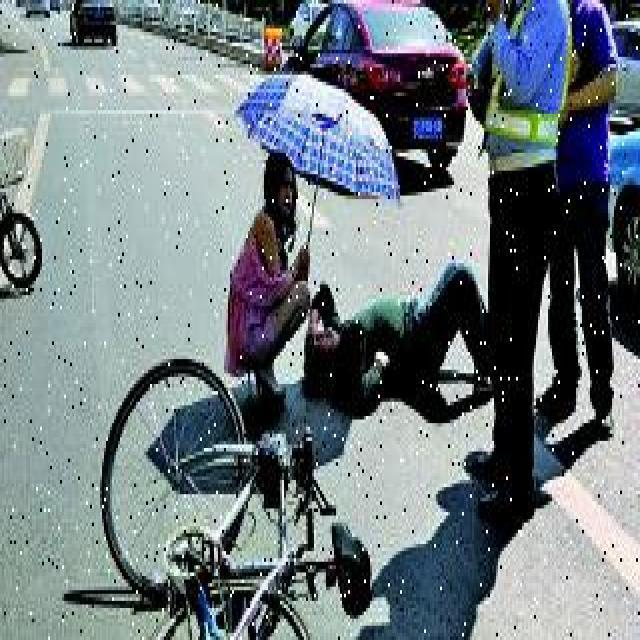fall: (308, 242, 486, 406)
